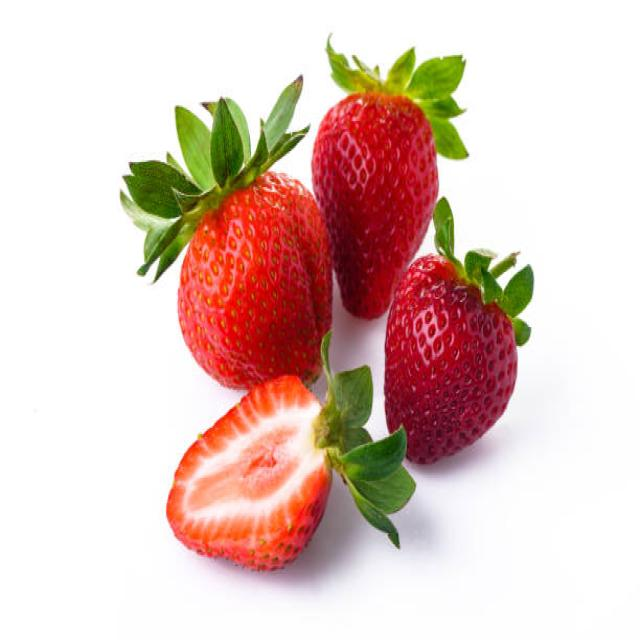Healthy Fruit: (177, 173, 335, 397), (311, 90, 440, 321), (383, 256, 517, 464)
